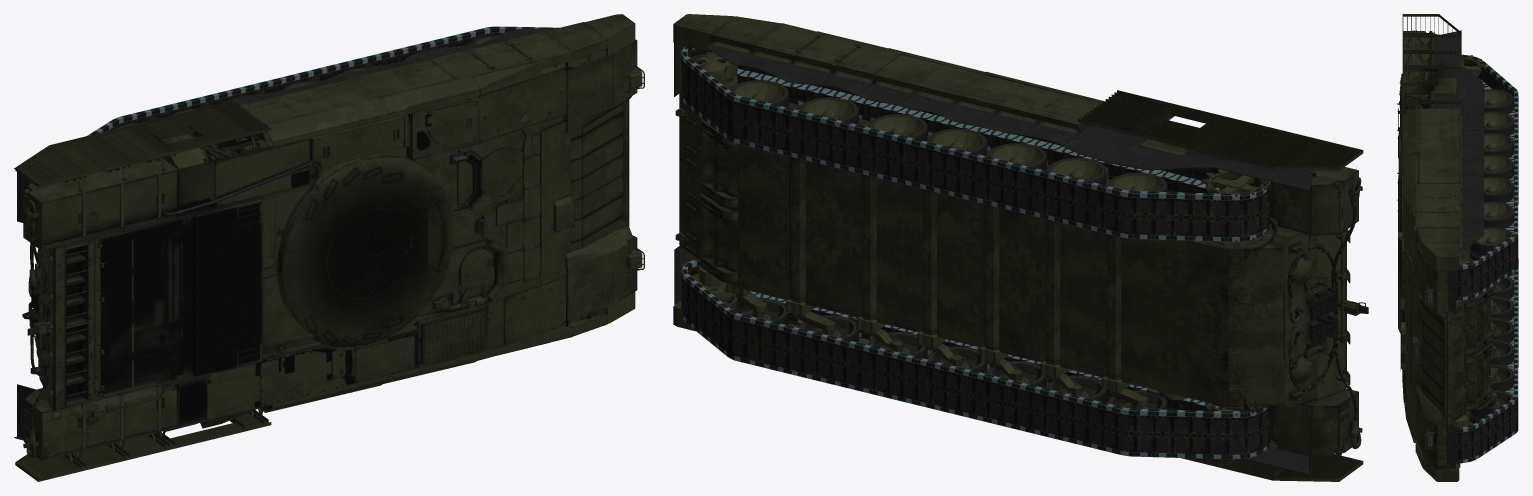
File: hull.gltf
3 views of the same model, side by side, from view 1: azimuth 30°, elevation 25°; view 2: azimuth 150°, elevation 25°; view 3: azimuth 270°, elevation 25° (orthographic). The views are drawn at different scales.
Visible parts, largest first — view 1: hull; view 2: hull; view 3: hull.
Part boxes in pixels (x1,y1,x2,y2): hull: [14, 14, 644, 481]; hull: [673, 14, 1368, 481]; hull: [1397, 14, 1518, 481].
Bounding box in the file's own units: 7.73 × 3.5 × 1.64.
Materials: 42 (42 with a texture image).
